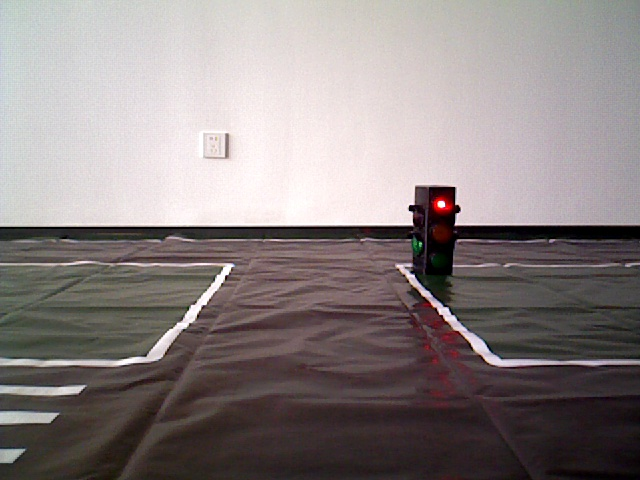red: (410, 184, 455, 283)
